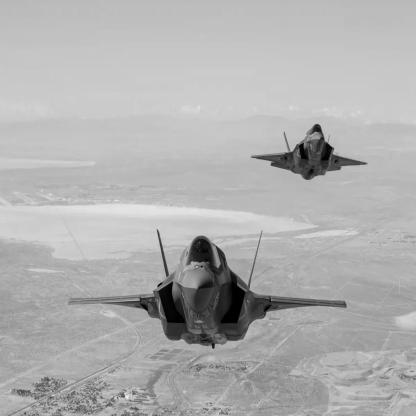F35: (69, 230, 348, 351), (252, 125, 369, 181)
